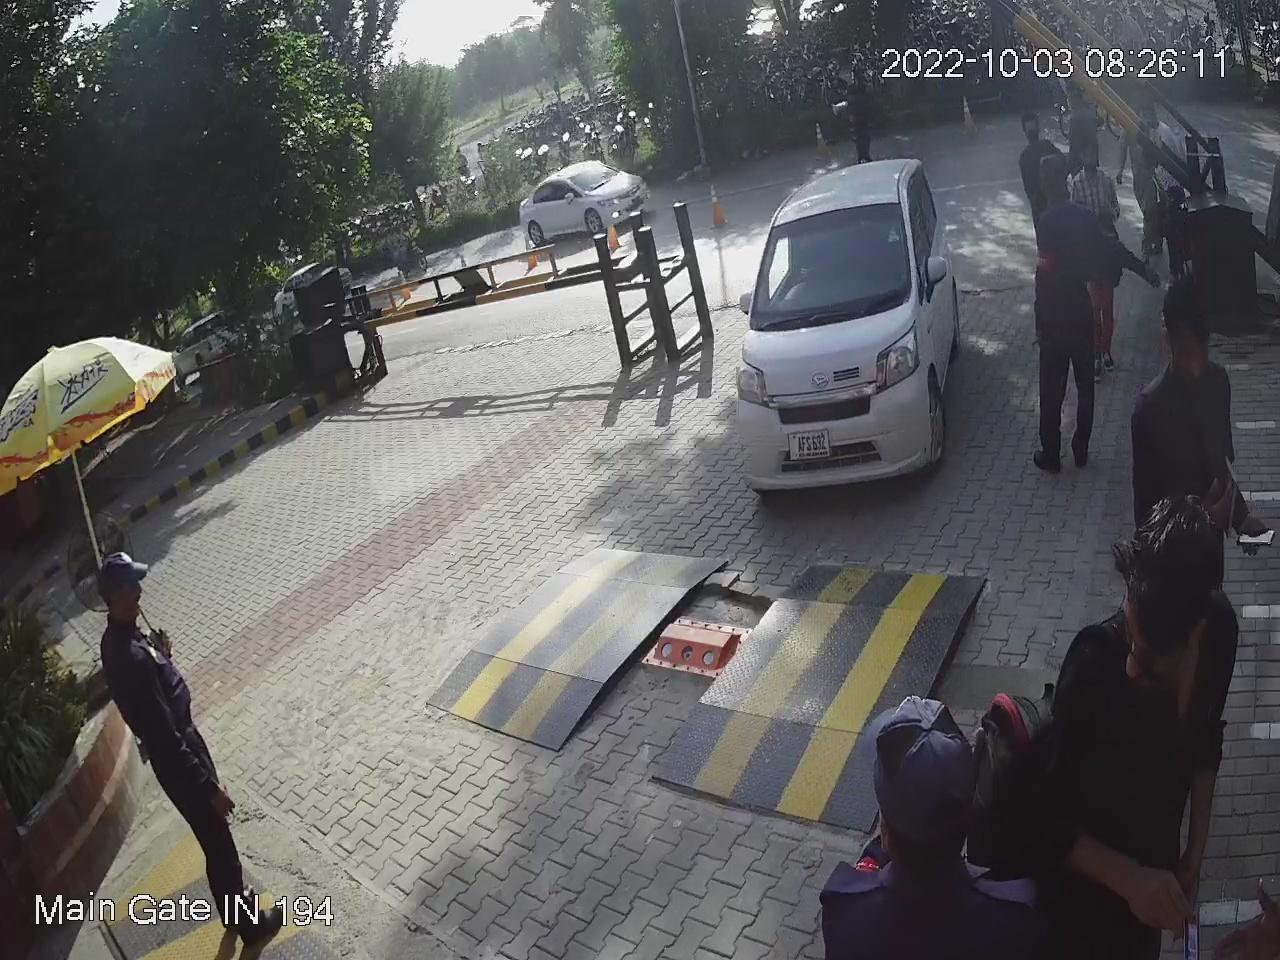windshield: (753, 195, 915, 330)
